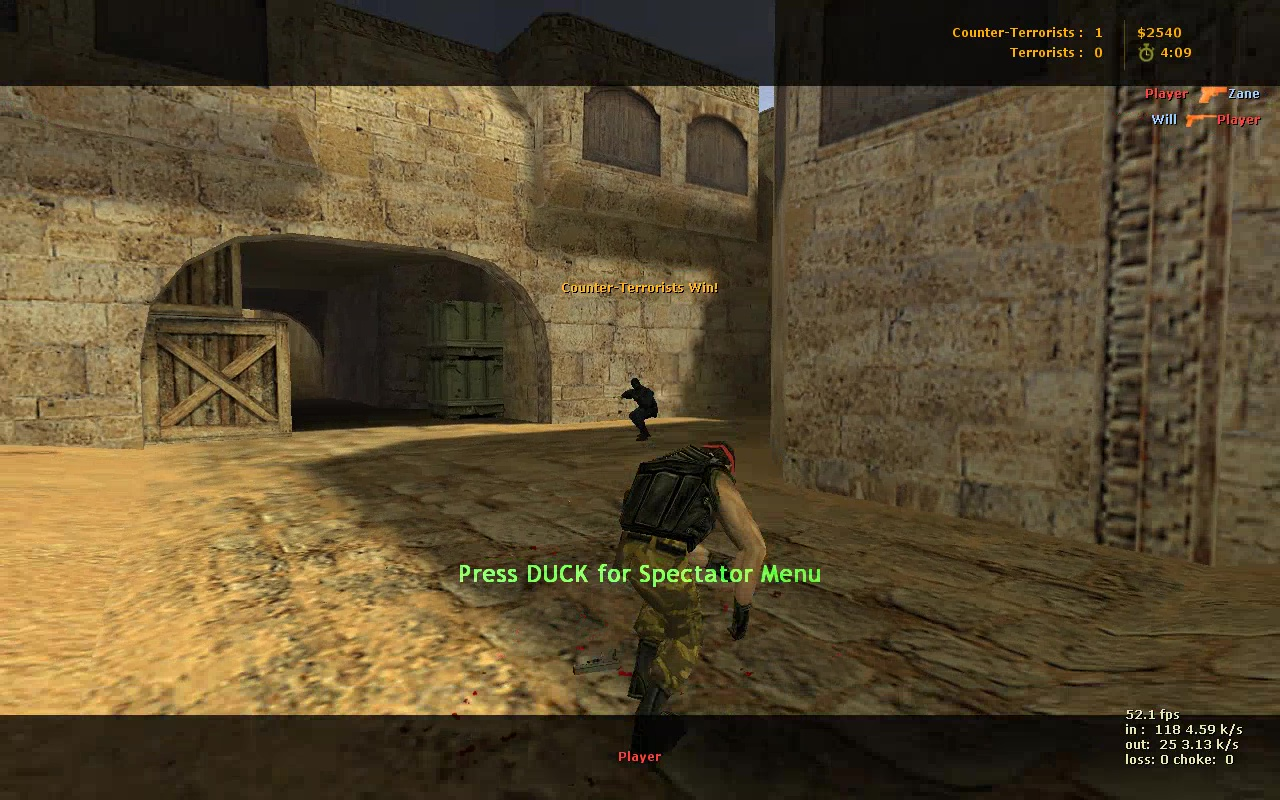ct: (618, 378, 659, 442)
terr1: (593, 436, 766, 757)
